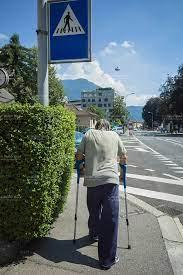crutches: (73, 119, 132, 270)
